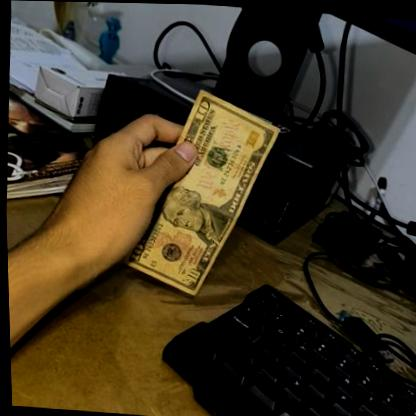ten-front: (104, 80, 286, 303)
